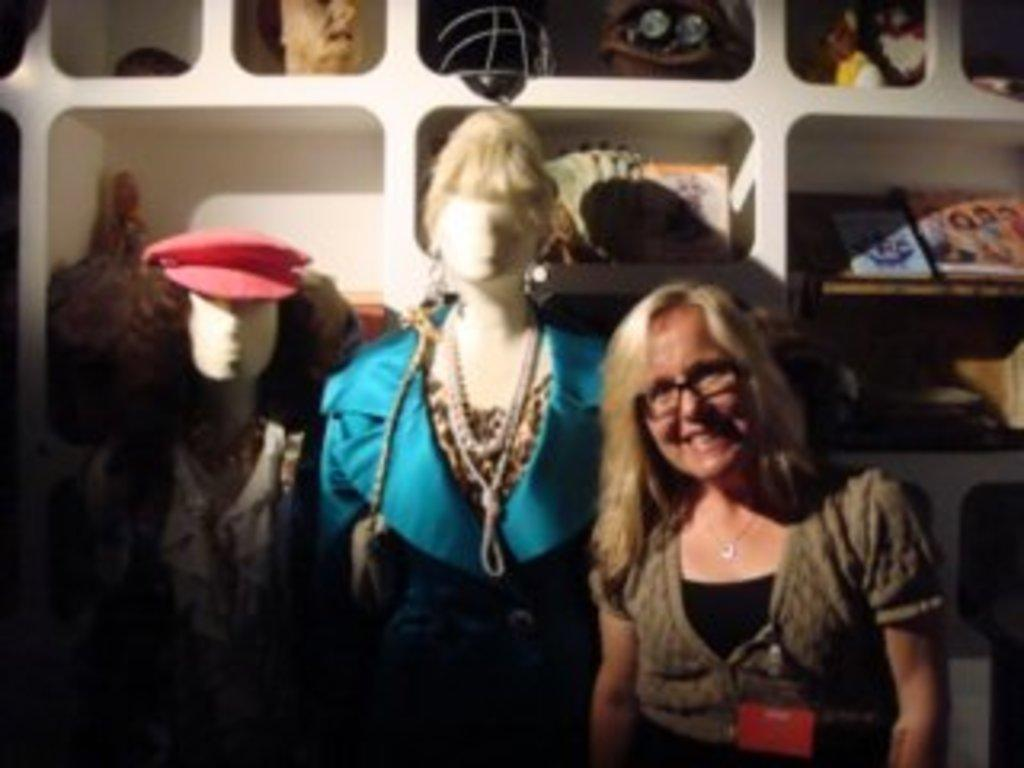Hat: (141, 224, 317, 300)
